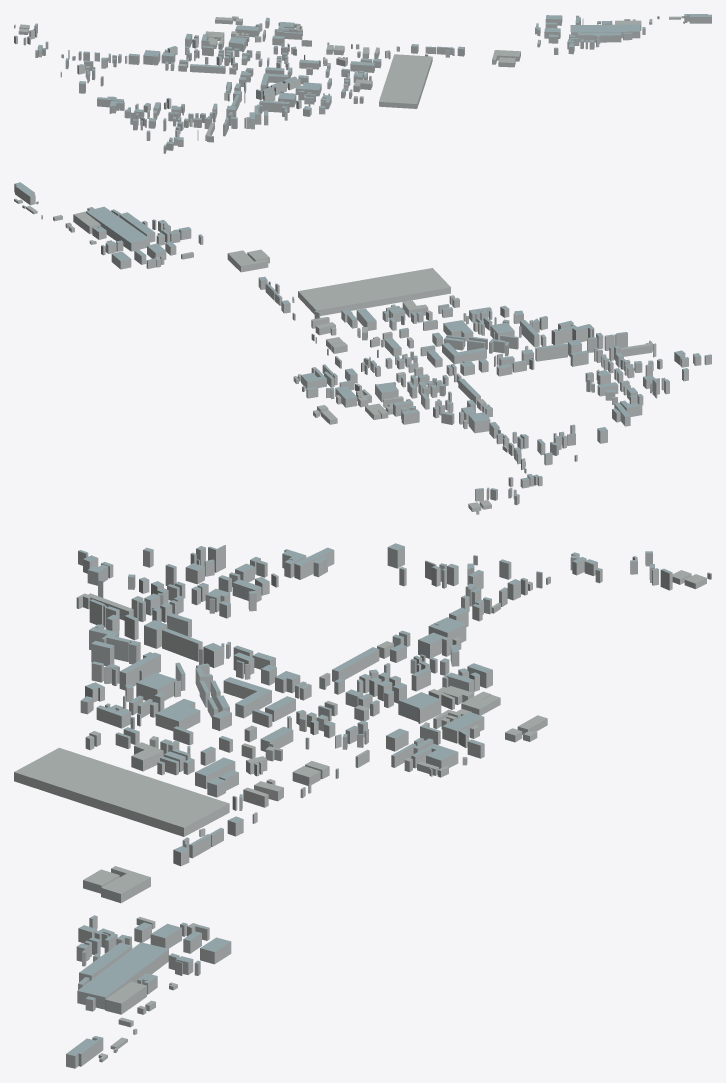
Rendered from far.glb.
The picture shows the model from 3 angles, top to bottom: view 1: azimuth 30°, elevation 25°; view 2: azimuth 150°, elevation 25°; view 3: azimuth 270°, elevation 25°; orthographic projection. The views are drawn at different scales.
Size of the model in its own units: 1720 by 35.88 by 1000.
